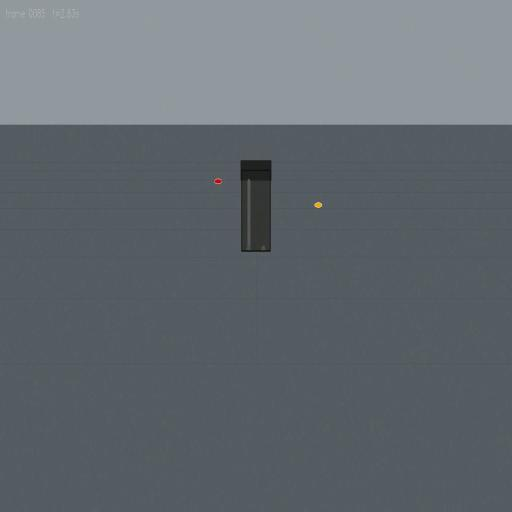bin: (240, 159, 272, 253)
